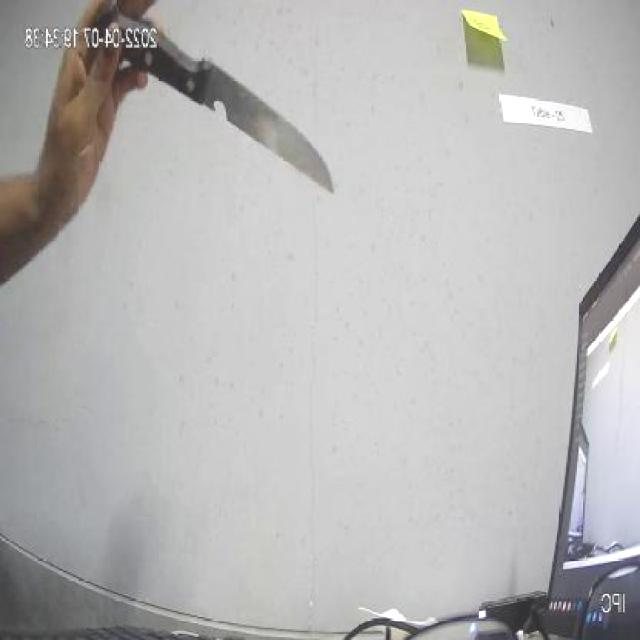knife: (79, 13, 352, 185)
